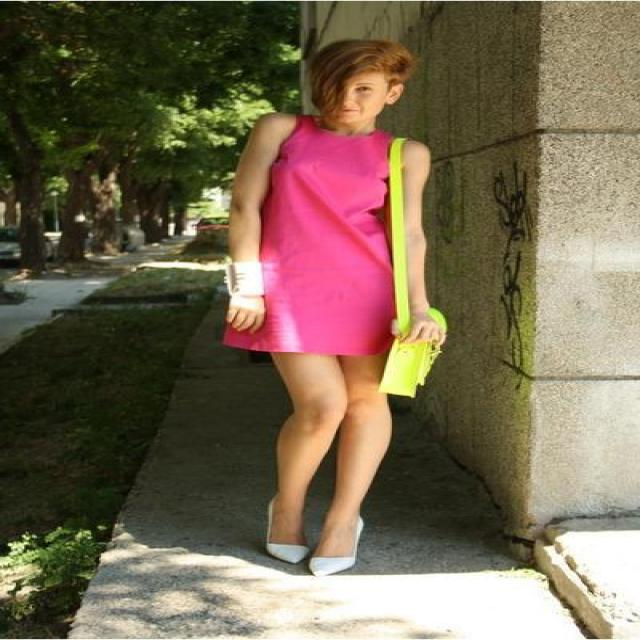bag: (378, 300, 440, 396)
dress: (224, 126, 395, 369)
shoe: (261, 543, 357, 576)
